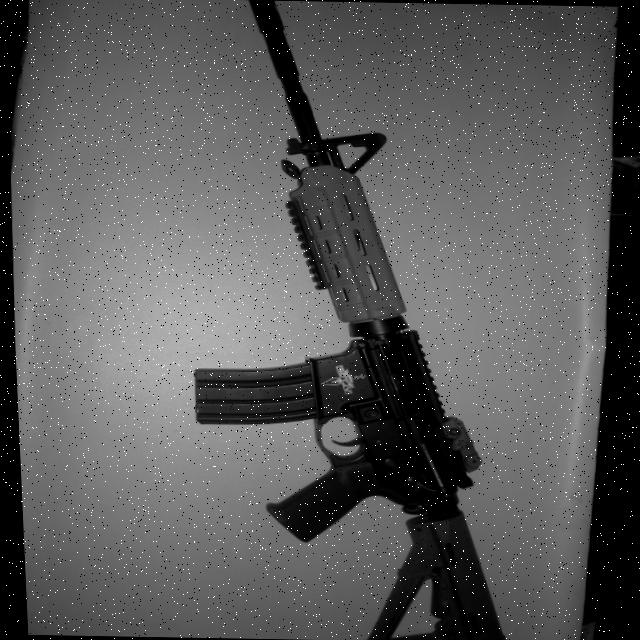firearm: (174, 0, 509, 640)
